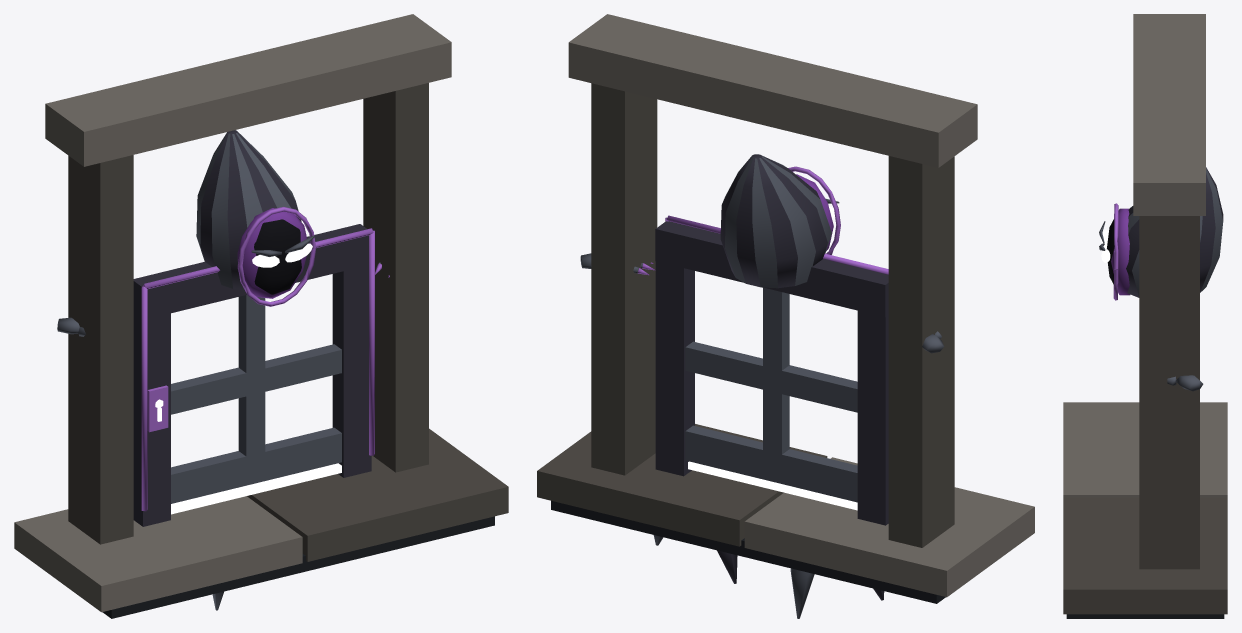
The model's file is lurker-door-shadow.glb.
3 renders of one model, left to right at view 1: azimuth 30°, elevation 25°; view 2: azimuth 150°, elevation 25°; view 3: azimuth 270°, elevation 25°, orthographic. The views are drawn at different scales.
Visible parts, largest first — view 1: lurker_door_shadow, turn_head; view 2: lurker_door_shadow, turn_head, sway_under; view 3: lurker_door_shadow, turn_head.
Boxes of the visible parts, box(x1,y1,x2,y2) form: lurker_door_shadow: box(14, 14, 508, 618); turn_head: box(196, 130, 315, 306); lurker_door_shadow: box(537, 14, 1034, 603); turn_head: box(720, 154, 840, 288); sway_under: box(653, 535, 884, 618); lurker_door_shadow: box(1063, 14, 1227, 618); turn_head: box(1099, 167, 1223, 300).
Size of the model in its own units: 0.731 by 0.9133 by 0.271.
